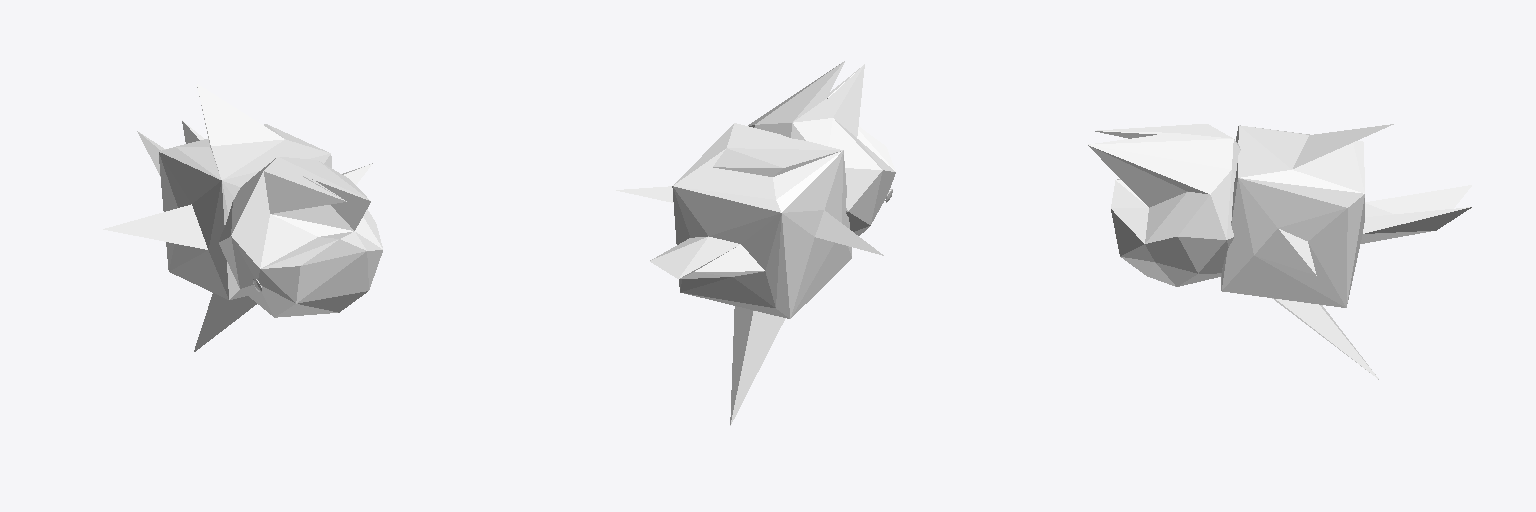
File: milk-shark-mutation.obj
3 views of the same model, side by side, from view 1: azimuth 30°, elevation 25°; view 2: azimuth 150°, elevation 25°; view 3: azimuth 270°, elevation 25° (orthographic).
Parts seen in each view (by area): view 1: 001_mesh_1, 002_mesh_2; view 2: 002_mesh_2, 001_mesh_1; view 3: 002_mesh_2, 001_mesh_1.
Part boxes in pixels (x1,y1,x2,y2): 001_mesh_1: (219, 157, 382, 317); 002_mesh_2: (103, 84, 372, 351); 002_mesh_2: (616, 123, 883, 425); 001_mesh_1: (748, 61, 895, 235); 002_mesh_2: (1221, 124, 1471, 379); 001_mesh_1: (1088, 124, 1240, 286).
Size of the model in its own units: 91.35 by 84.61 by 113.